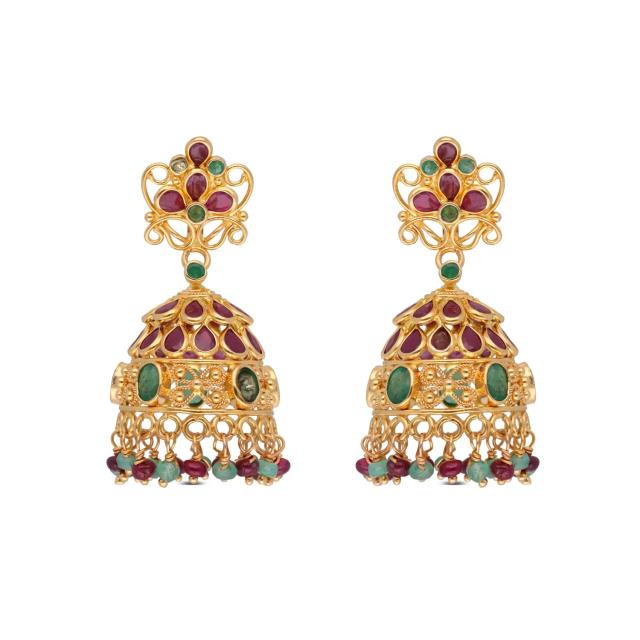missing gem: (236, 367, 259, 404), (431, 326, 451, 351), (171, 158, 187, 173)
